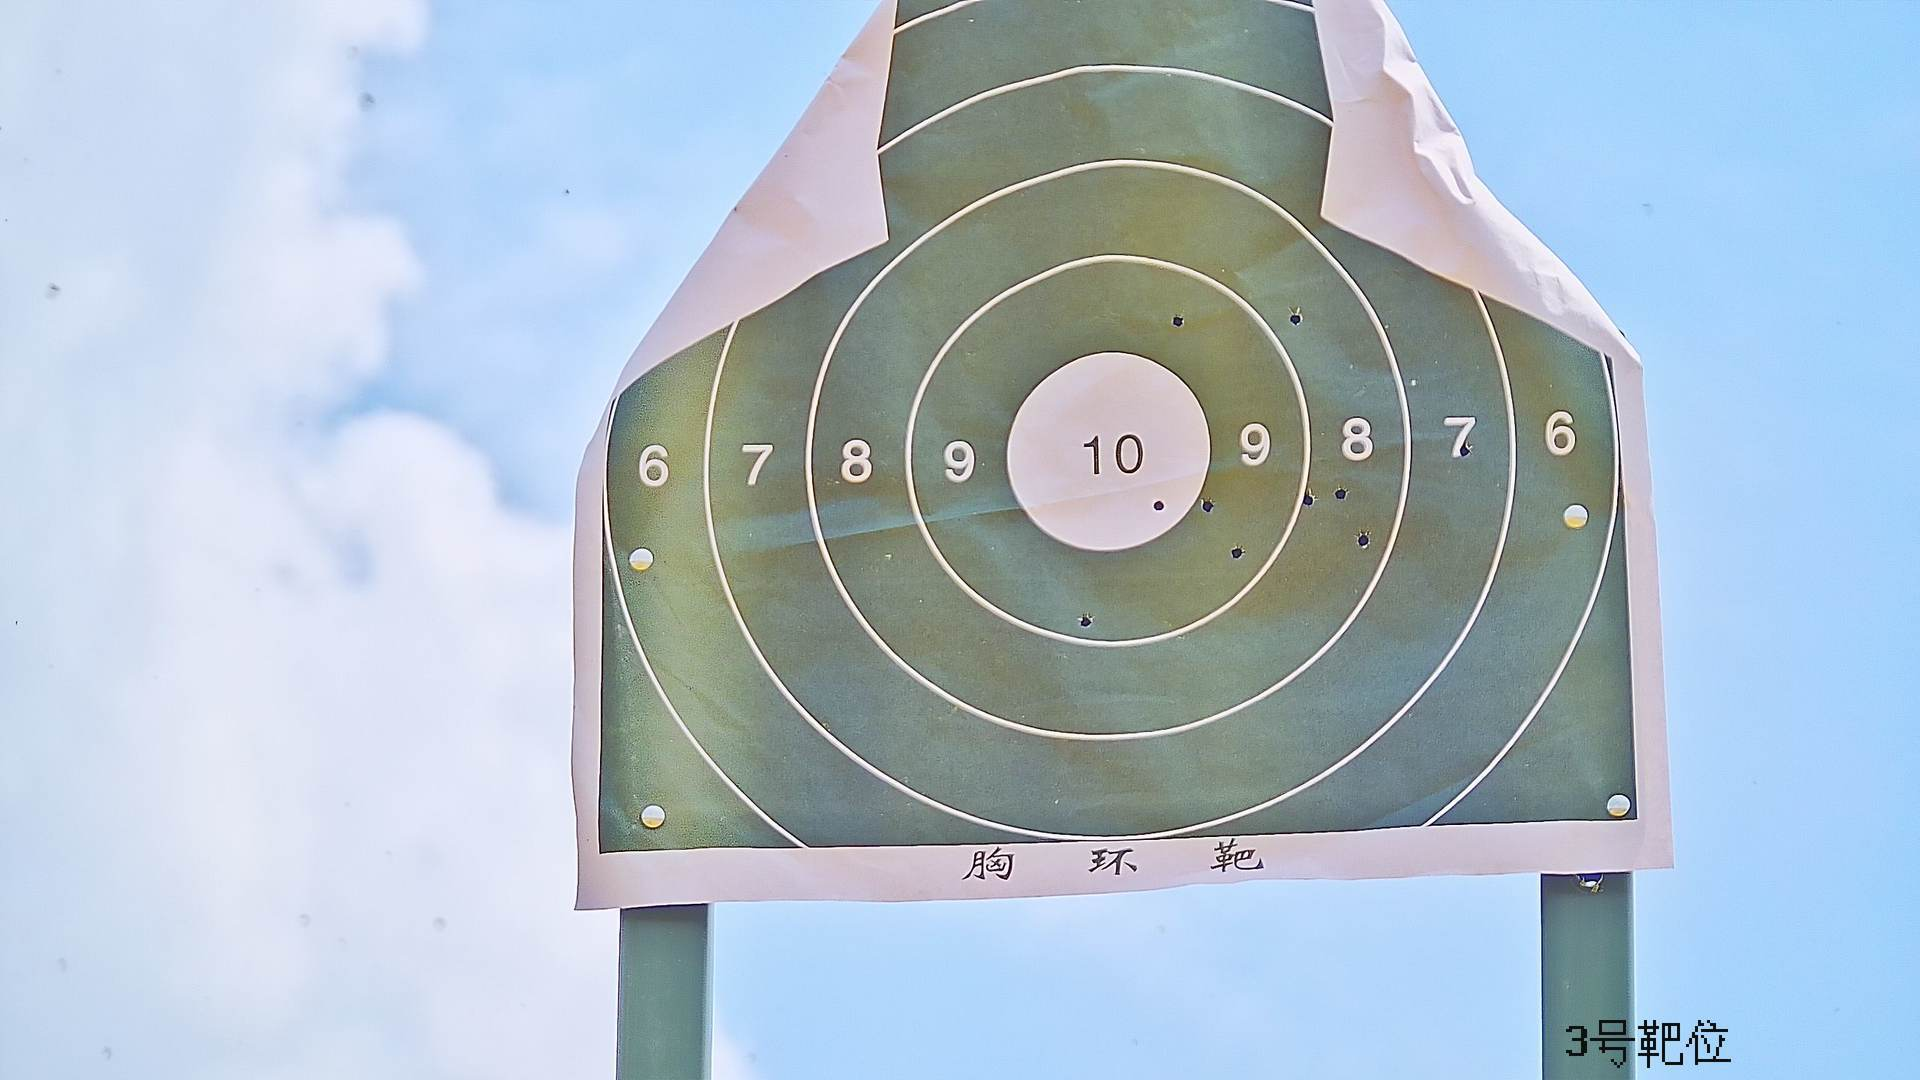hole: (1077, 611, 1093, 629), (1332, 487, 1348, 501), (1357, 531, 1370, 549), (1171, 314, 1185, 328), (1288, 311, 1303, 326), (1200, 497, 1215, 512), (1302, 491, 1315, 506), (1230, 545, 1244, 559), (1460, 440, 1470, 458), (1153, 497, 1164, 510)
target: (603, 3, 1636, 849)
ten: (1004, 347, 1213, 556)
